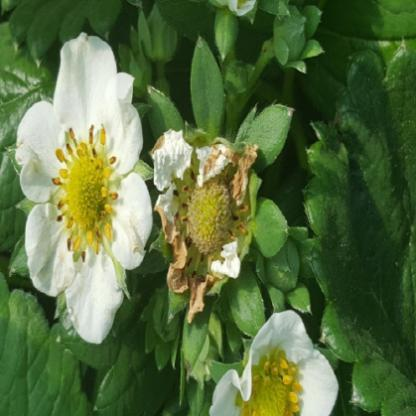Strawberry_Blossom_Blight: (50, 122, 122, 264), (172, 159, 250, 285)
